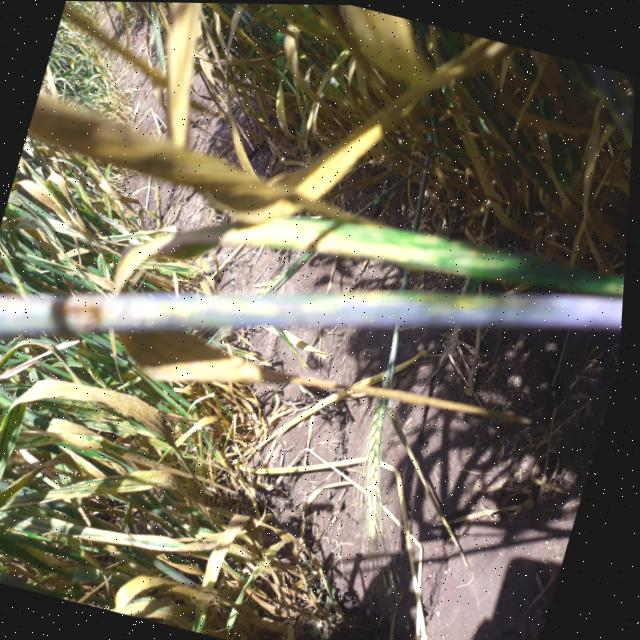black_stem_rust: (0, 123, 604, 503)
